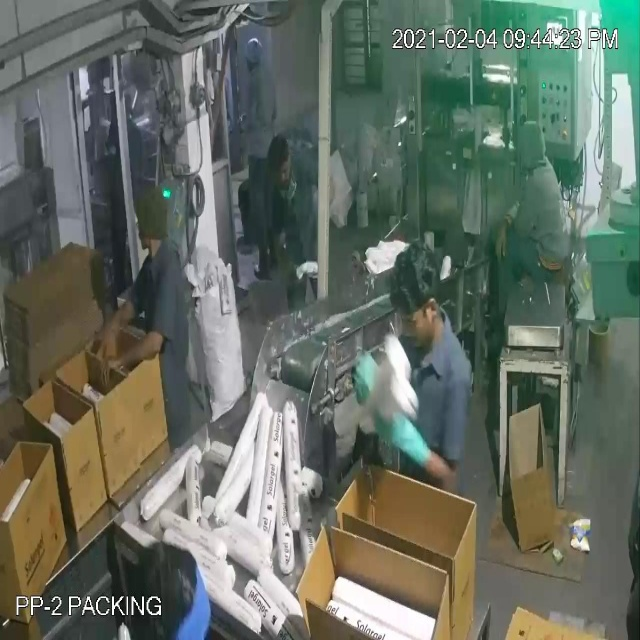Guantes: (365, 380, 435, 474), (339, 358, 386, 409)
Sin_guantes: (95, 331, 174, 388), (88, 300, 143, 362)
